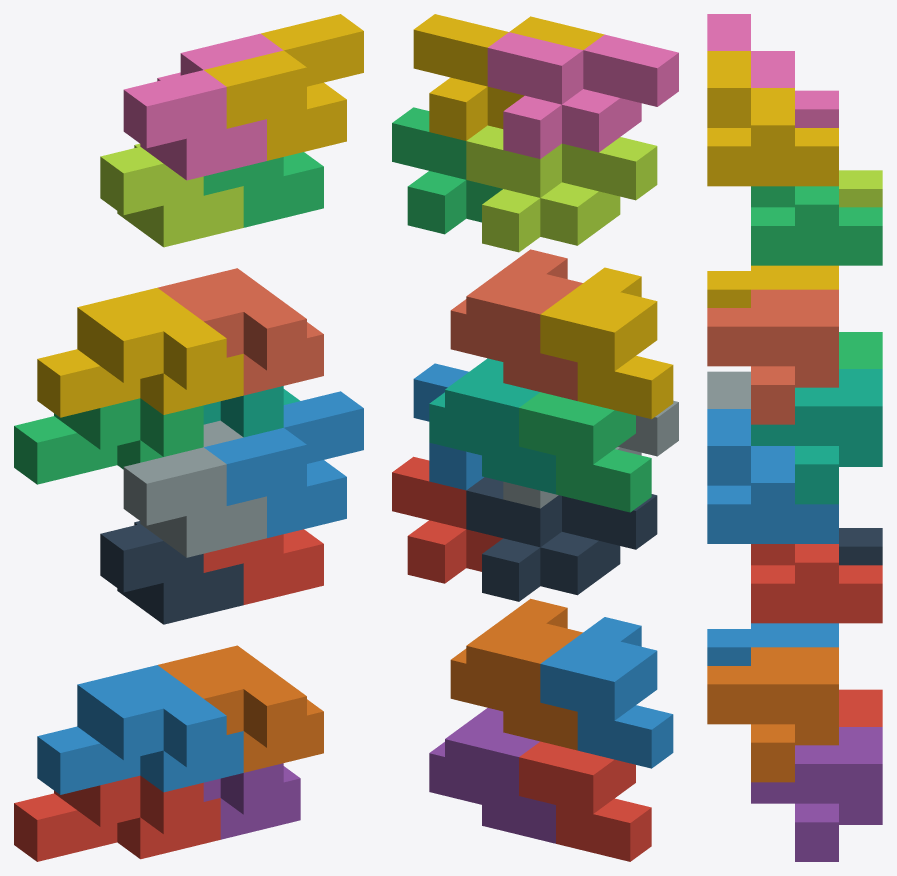
File: tiling.obj
3 renders of one model, left to right at view 1: azimuth 30°, elevation 25°; view 2: azimuth 150°, elevation 25°; view 3: azimuth 270°, elevation 25°, orthographic. The views are drawn at different scales.
Visible parts, largest first — view 1: copy_1_domain_2, copy_1_domain_4, copy_2_domain_8, copy_2_domain_6, copy_1_domain_1, copy_2_domain_4, copy_2_domain_2, copy_1_domain_3, copy_1_domain_6, copy_1_domain_8, copy_2_domain_3, copy_2_domain_1 (+4 smaller); view 2: copy_2_domain_4, copy_2_domain_3, copy_2_domain_1, copy_1_domain_4, copy_1_domain_2, copy_1_domain_8, copy_1_domain_6, copy_1_domain_1, copy_1_domain_3, copy_2_domain_8, copy_1_domain_7, copy_1_domain_5 (+4 smaller); view 3: copy_1_domain_6, copy_1_domain_8, copy_2_domain_8, copy_2_domain_6, copy_1_domain_7, copy_1_domain_5, copy_2_domain_5, copy_2_domain_7, copy_2_domain_4, copy_1_domain_2, copy_1_domain_4, copy_1_domain_1 (+4 smaller).
Part boxes in pixels (<box>): copy_1_domain_2: <box>37,665,243,794</box>; copy_1_domain_4: <box>37,287,243,417</box>; copy_2_domain_8: <box>204,14,363,160</box>; copy_2_domain_6: <box>204,391,363,537</box>; copy_1_domain_1: <box>14,775,220,861</box>; copy_2_domain_4: <box>123,33,283,180</box>; copy_2_domain_2: <box>123,420,266,557</box>; copy_1_domain_3: <box>14,398,203,484</box>; copy_1_domain_6: <box>158,645,323,772</box>; copy_1_domain_8: <box>158,268,323,395</box>; copy_2_domain_3: <box>100,143,243,247</box>; copy_2_domain_1: <box>100,521,243,624</box>; copy_2_domain_4: <box>487,32,678,158</box>; copy_2_domain_3: <box>466,125,657,252</box>; copy_2_domain_1: <box>466,477,657,601</box>; copy_1_domain_4: <box>540,267,673,419</box>; copy_1_domain_2: <box>540,617,673,768</box>; copy_1_domain_8: <box>450,249,582,400</box>; copy_1_domain_6: <box>450,598,582,750</box>; copy_1_domain_1: <box>519,741,651,861</box>; copy_1_domain_3: <box>519,392,651,512</box>; copy_2_domain_8: <box>413,14,604,140</box>; copy_1_domain_7: <box>429,358,555,494</box>; copy_1_domain_5: <box>429,708,555,843</box>; copy_1_domain_6: <box>707,647,838,782</box>; copy_1_domain_8: <box>707,289,838,424</box>; copy_2_domain_8: <box>707,51,838,186</box>; copy_2_domain_6: <box>707,409,838,543</box>; copy_1_domain_7: <box>751,369,882,504</box>; copy_1_domain_5: <box>751,727,882,861</box>; copy_2_domain_5: <box>751,544,882,623</box>; copy_2_domain_7: <box>751,186,882,265</box>; copy_2_domain_4: <box>707,14,838,127</box>; copy_1_domain_2: <box>707,623,838,665</box>; copy_1_domain_4: <box>707,265,838,307</box>; copy_1_domain_1: <box>839,689,882,726</box>.
Bounding box in the file's own units: 7 × 19 × 4.
